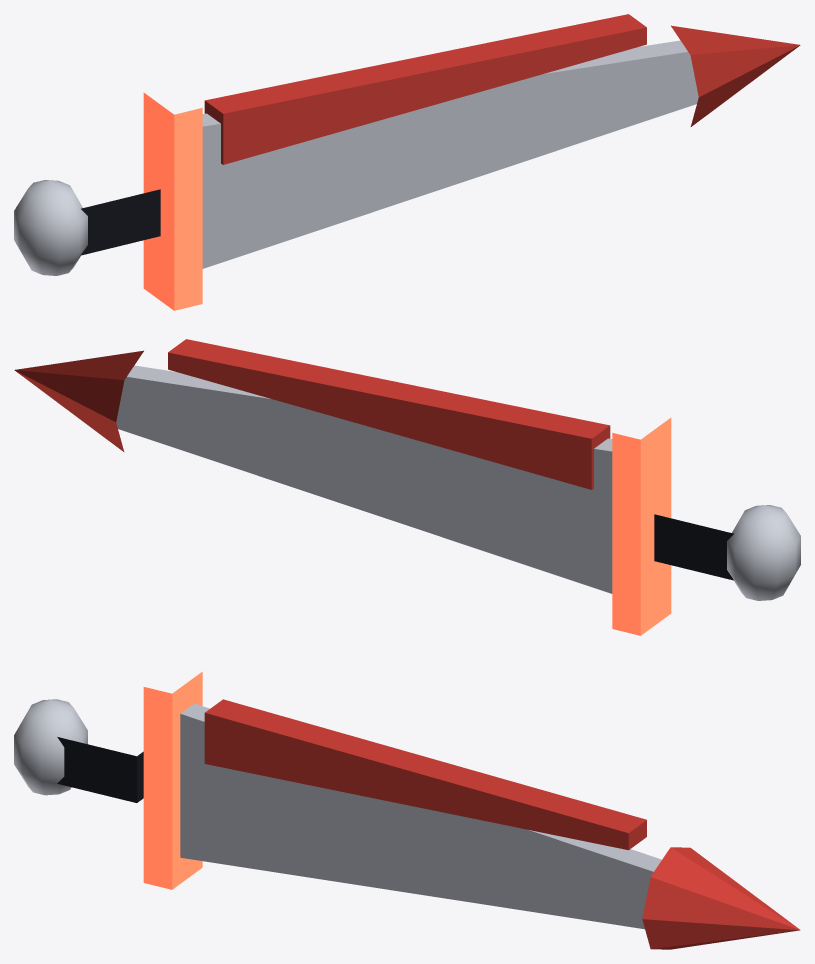
Rendered from daedalus.glb.
The picture shows the model from 3 angles, top to bottom: view 1: azimuth 30°, elevation 25°; view 2: azimuth 150°, elevation 25°; view 3: azimuth 330°, elevation 25°; orthographic projection.
Parts seen in each view (by area): view 1: daedalus-broad-blade, daedalus-crystal-edge, daedalus-guard, daedalus-pommel-gem, daedalus-tip, daedalus-grip; view 2: daedalus-broad-blade, daedalus-crystal-edge, daedalus-guard, daedalus-pommel-gem, daedalus-tip, daedalus-grip; view 3: daedalus-broad-blade, daedalus-crystal-edge, daedalus-tip, daedalus-guard, daedalus-pommel-gem, daedalus-grip.
Boxes of the visible parts, x1,y1,x2,y2 form: daedalus-broad-blade: [202, 40, 698, 268]; daedalus-crystal-edge: [204, 14, 646, 164]; daedalus-guard: [143, 92, 202, 310]; daedalus-pommel-gem: [14, 180, 87, 275]; daedalus-tip: [671, 25, 800, 126]; daedalus-grip: [81, 189, 160, 255]; daedalus-broad-blade: [116, 365, 612, 593]; daedalus-crystal-edge: [168, 339, 610, 489]; daedalus-guard: [612, 417, 671, 635]; daedalus-pommel-gem: [727, 505, 800, 600]; daedalus-tip: [14, 350, 143, 451]; daedalus-grip: [654, 514, 733, 580]; daedalus-broad-blade: [180, 703, 661, 929]; daedalus-crystal-edge: [204, 699, 646, 850]; daedalus-tip: [642, 847, 800, 949]; daedalus-guard: [143, 671, 202, 889]; daedalus-pommel-gem: [14, 699, 87, 795]; daedalus-grip: [57, 737, 143, 802].
Size of the model in its own units: 1.92 by 0.46 by 0.24.
